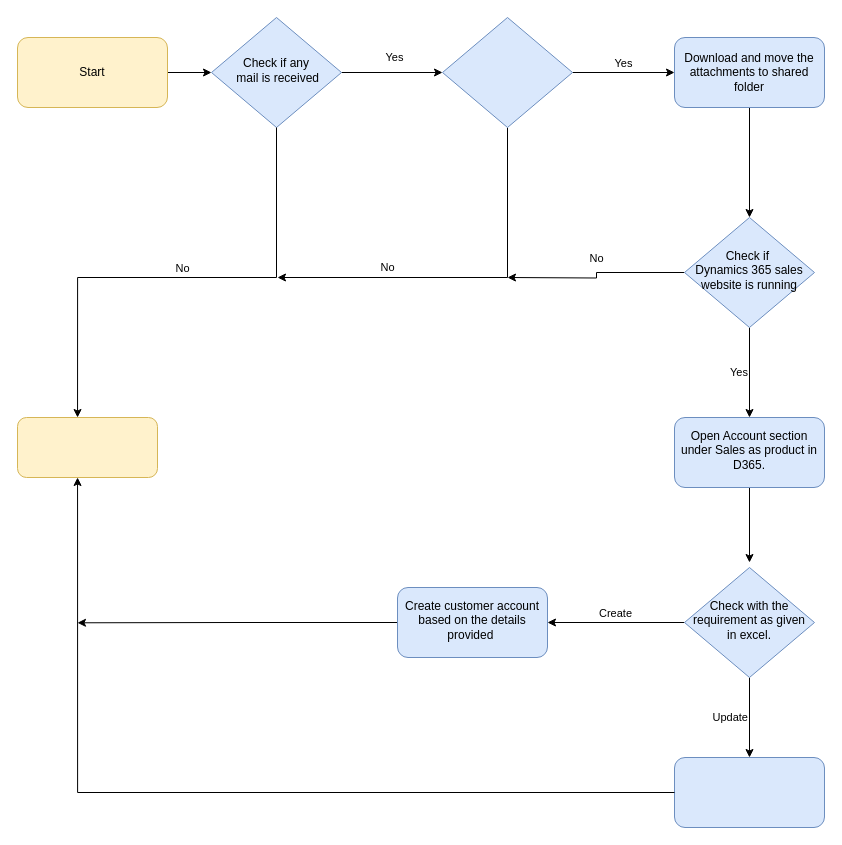
Image size: 842x845. Some labels were removed from this diagram. Each missing label, with the box of its shape:
Check if attachments are available: (442, 16, 572, 128)
End: (16, 416, 158, 478)
Perform Updation based on details provided.: (674, 756, 824, 828)
